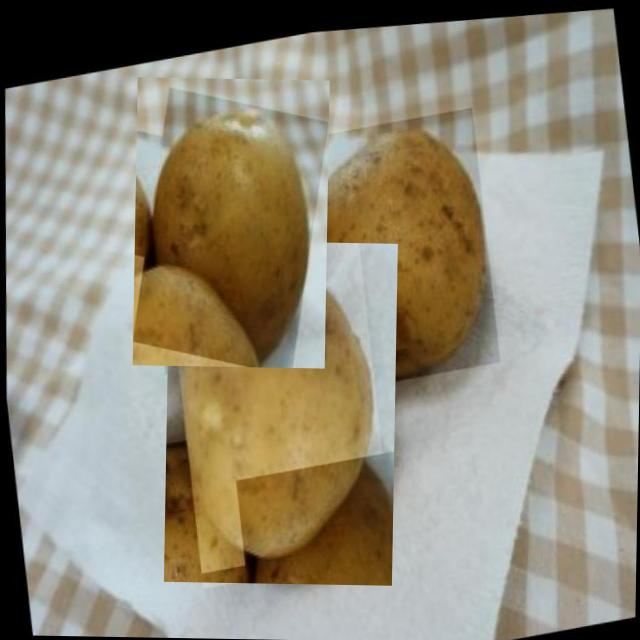Potato: (164, 240, 398, 586), (295, 98, 504, 391), (132, 77, 329, 368)
